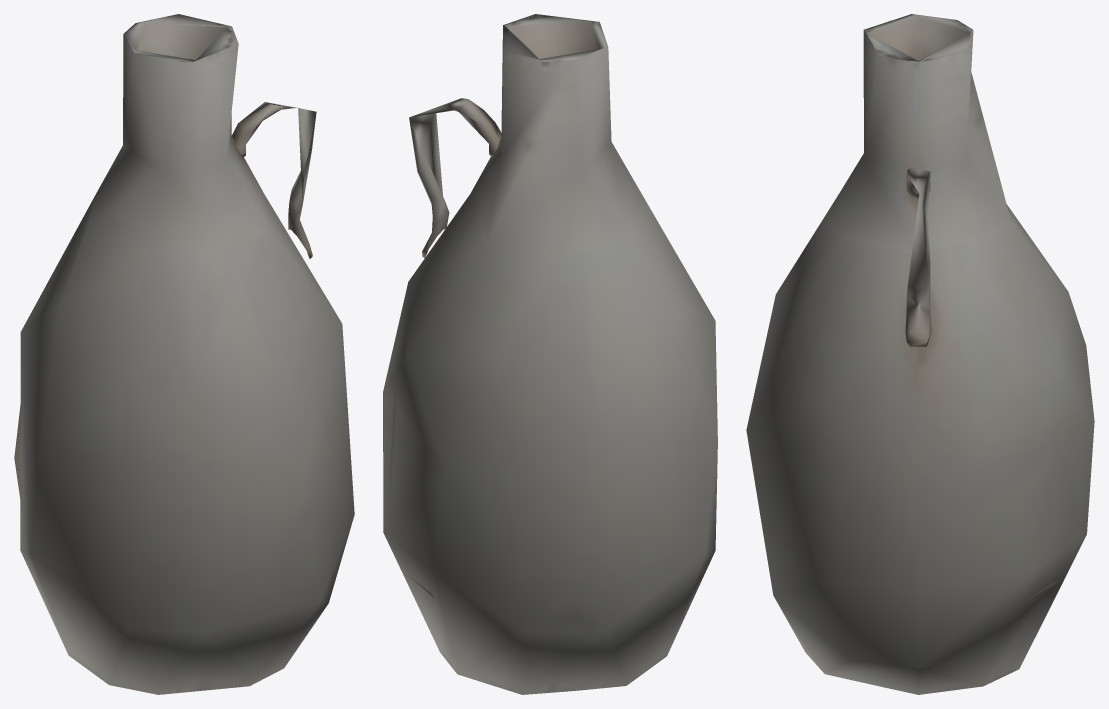
Rendered from vase_d.glb.
3 views of the same model, side by side, from view 1: azimuth 30°, elevation 25°; view 2: azimuth 150°, elevation 25°; view 3: azimuth 270°, elevation 25° (orthographic).
Visible parts, largest first — view 1: vase_d; view 2: vase_d; view 3: vase_d.
Boxes of the visible parts, x1,y1,x2,y2 form: vase_d: (14, 14, 354, 694); vase_d: (383, 14, 717, 694); vase_d: (746, 14, 1094, 694).
Bounding box in the file's own units: 0.1773 × 0.341 × 0.1767.
Materials: 1 (1 with a texture image).
